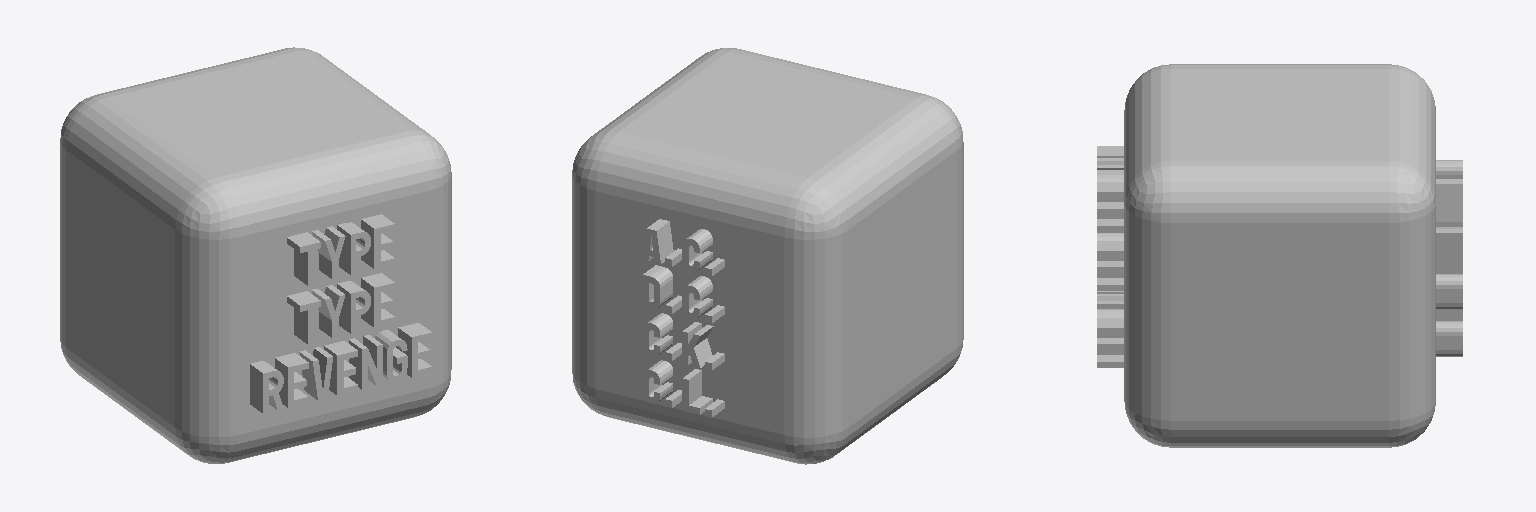
The picture shows the model from 3 angles: view 1: azimuth 30°, elevation 25°; view 2: azimuth 150°, elevation 25°; view 3: azimuth 270°, elevation 25°; orthographic projection.
Parts seen in each view (by area): view 1: polySurface17 pasted__typeMesh1, typeMesh2; view 2: polySurface17 pasted__typeMesh1, typeMesh3; view 3: polySurface17 pasted__typeMesh1, typeMesh2, typeMesh3.
Part boxes in pixels (left/top/right/bottom): polySurface17 pasted__typeMesh1: left=60, top=47, right=451, bottom=463; typeMesh2: left=250, top=214, right=431, bottom=413; polySurface17 pasted__typeMesh1: left=572, top=48, right=963, bottom=464; typeMesh3: left=642, top=219, right=724, bottom=417; polySurface17 pasted__typeMesh1: left=1124, top=64, right=1435, bottom=447; typeMesh2: left=1097, top=146, right=1123, bottom=367; typeMesh3: left=1436, top=160, right=1462, bottom=356.
Size of the model in its own units: 6 by 6 by 7.03.